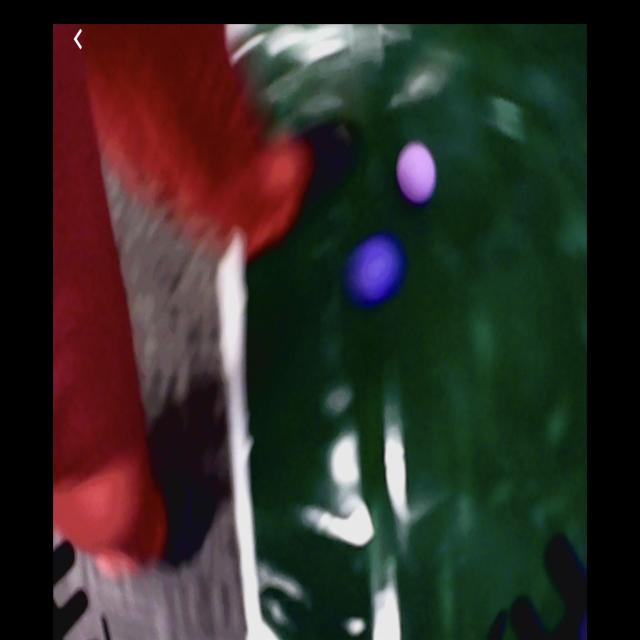ball: (354, 240, 402, 304), (398, 141, 438, 205)
